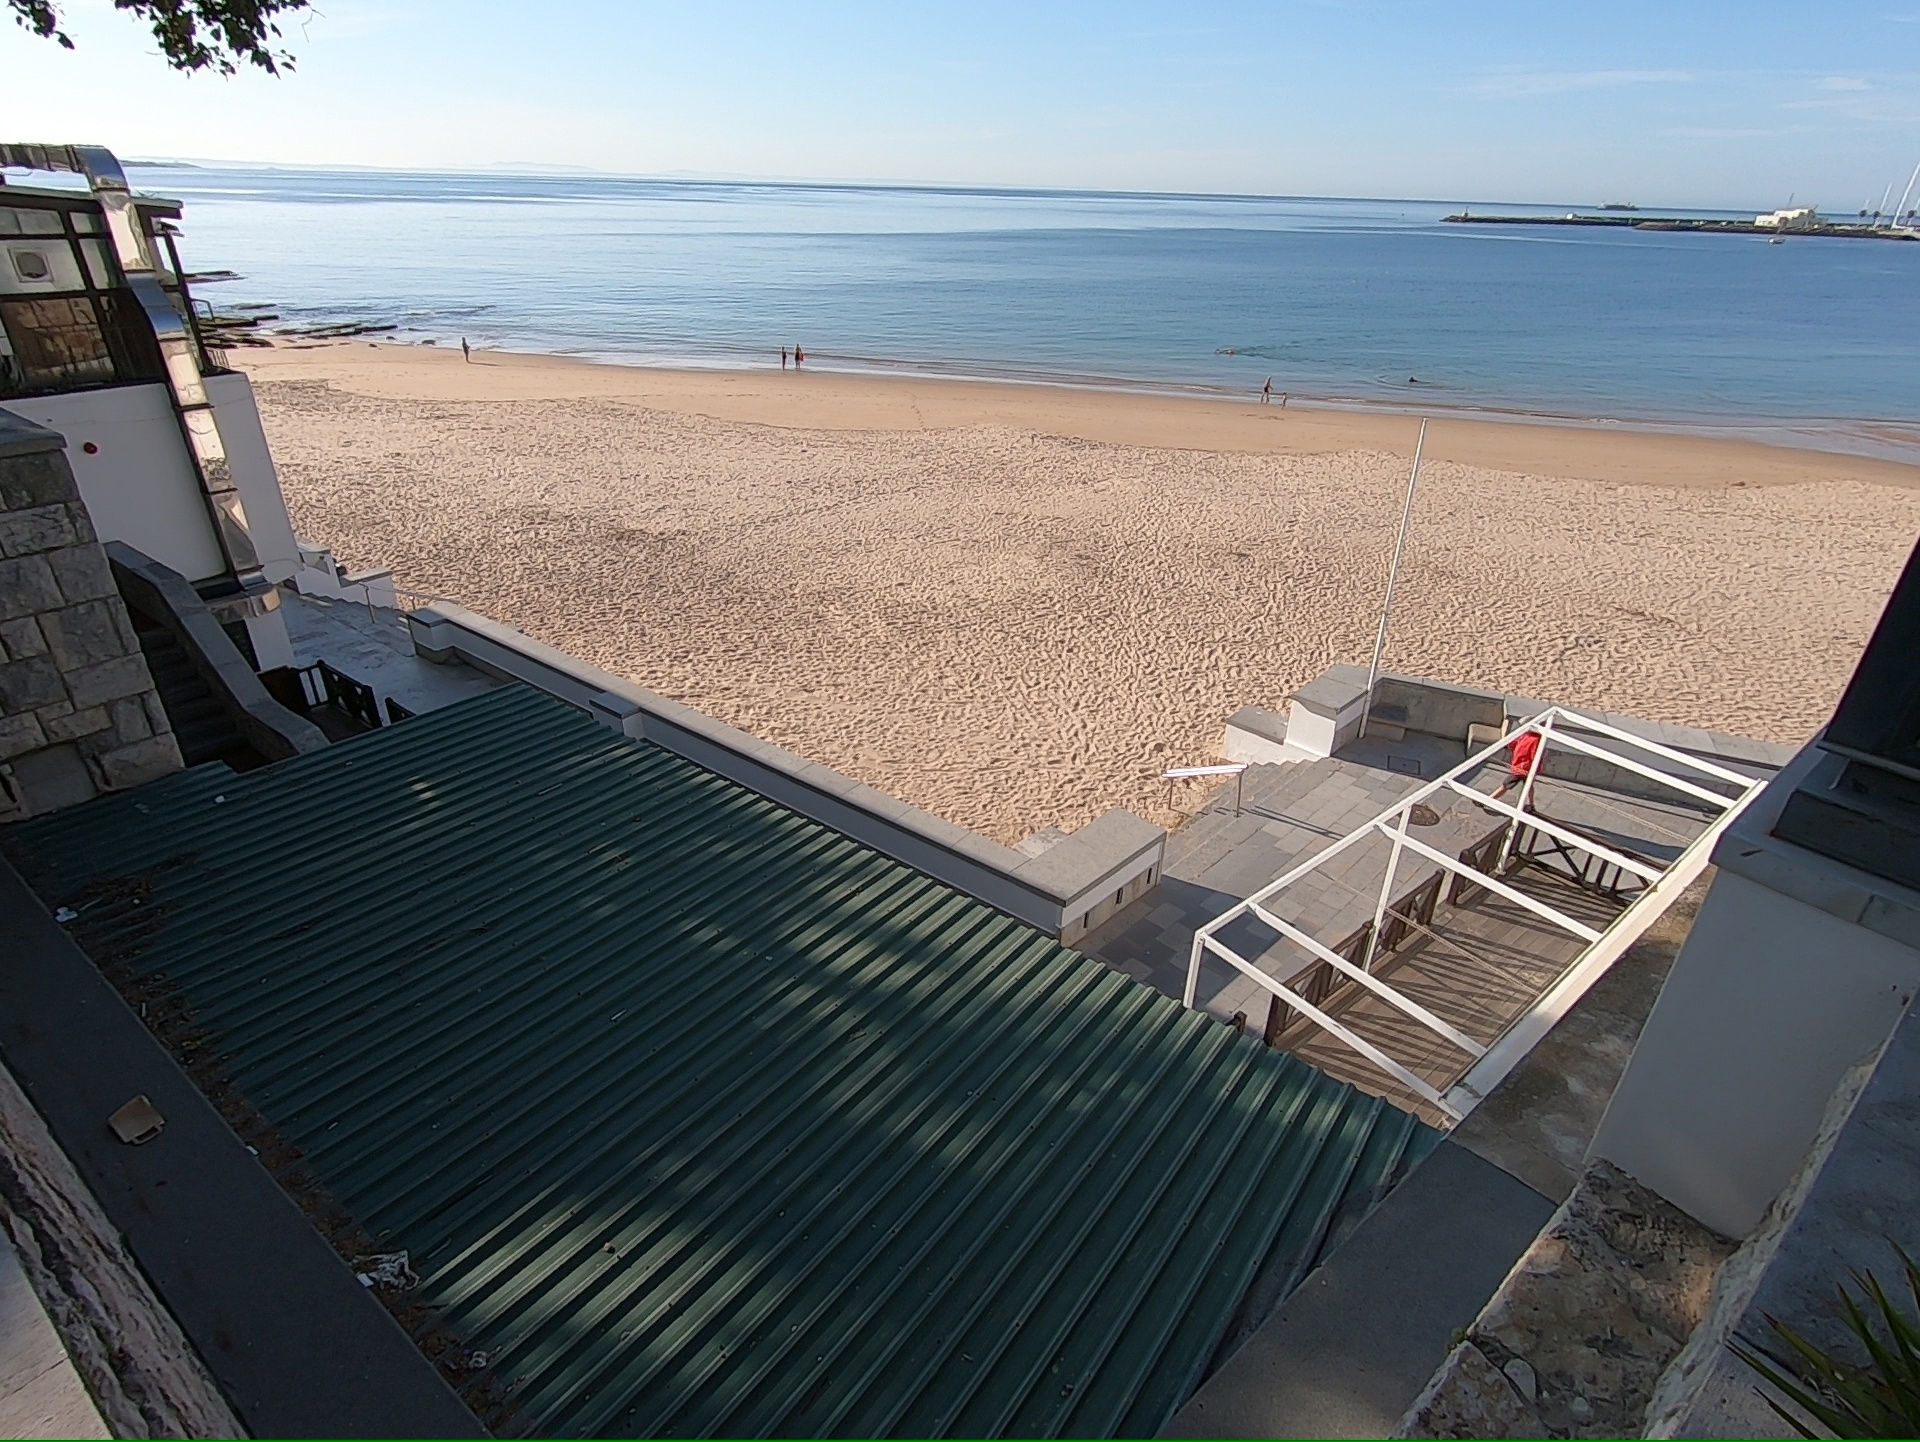person: (459, 336, 473, 364), (1261, 375, 1275, 403), (793, 342, 805, 370), (778, 345, 788, 371), (1280, 390, 1287, 411)
